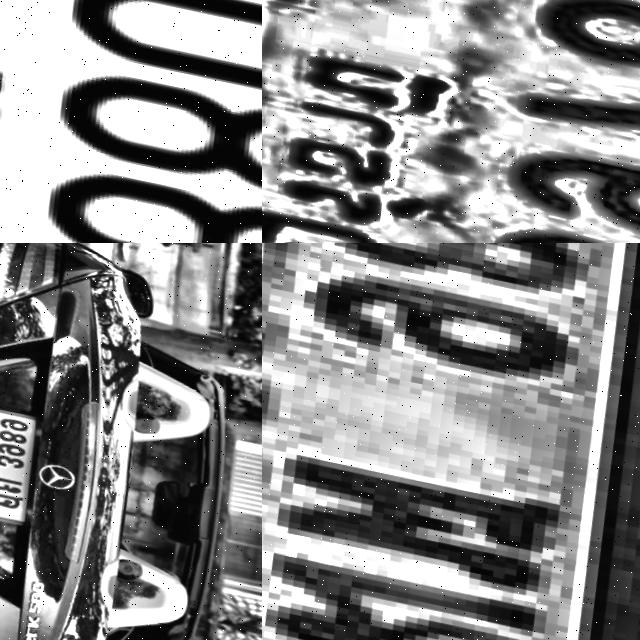license-plate: (262, 243, 640, 640), (262, 0, 640, 243), (0, 0, 262, 243), (0, 393, 59, 532)
